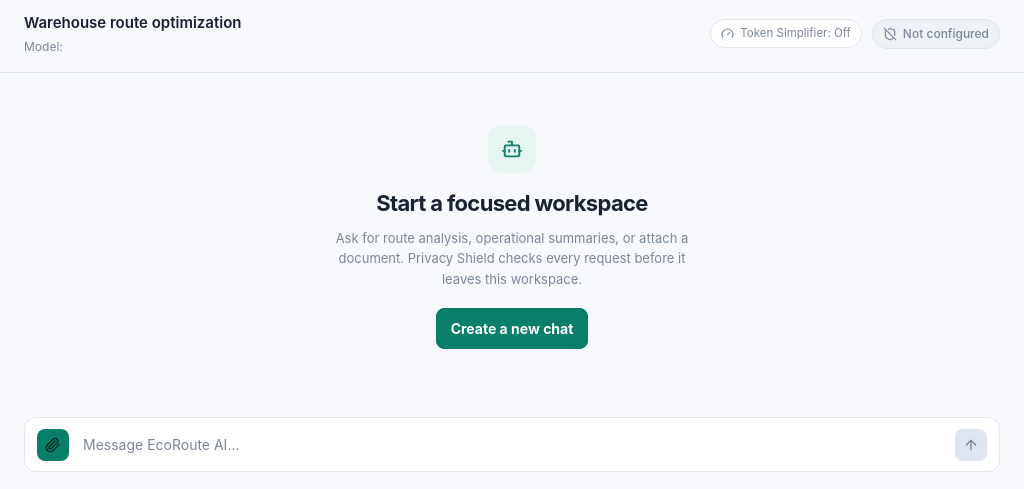
Test case: ChatArea - Token Simplifier integration › enabled: sends the optimized prompt to the provider
This screenshot has width=1024, height=489.
Later steps or results of the test are not shown.
Click the button "Token Simplifier: Off" at (786, 34), box x1=710 y1=19 x2=862 y2=48
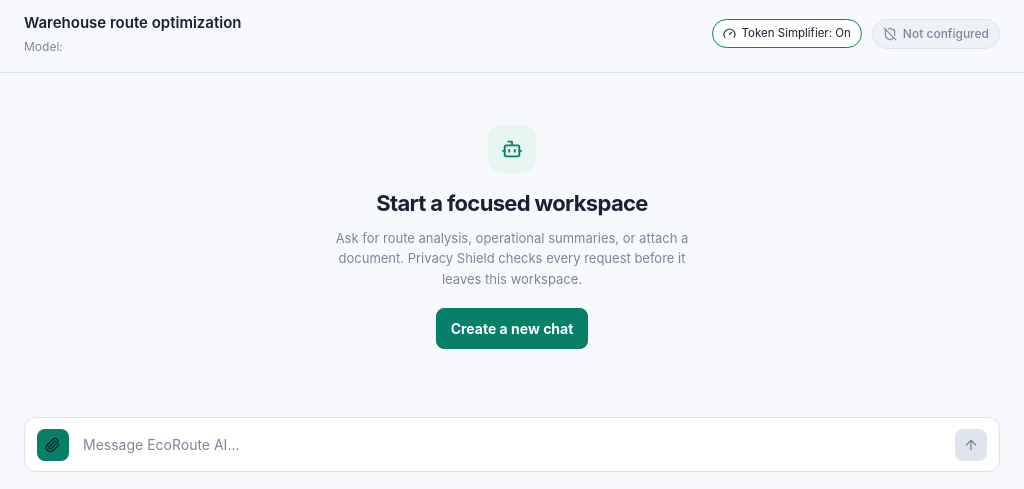
Result: the button "Token Simplifier: On" is shown at x1=712 y1=19 x2=862 y2=48
